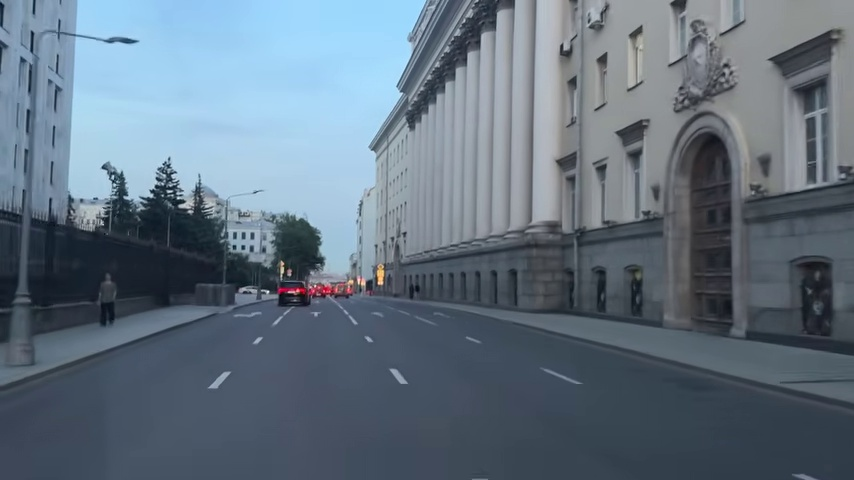apagada: (108, 32, 138, 49)
